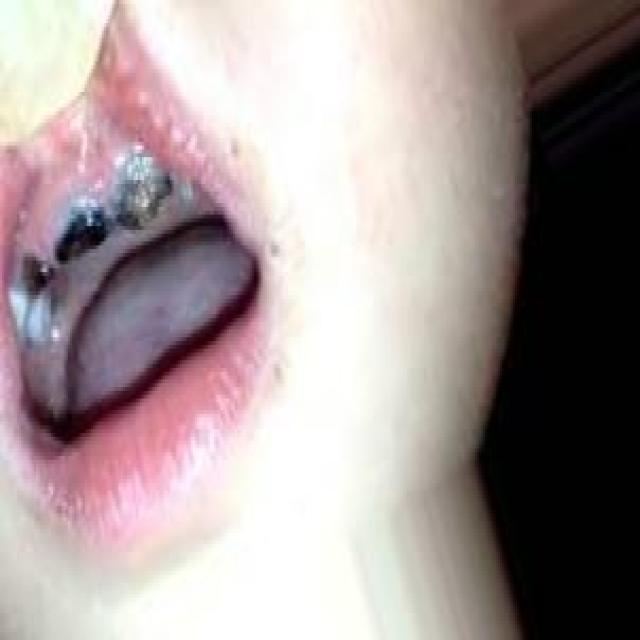caries: (114, 157, 174, 244), (16, 245, 66, 341), (52, 200, 114, 276)
